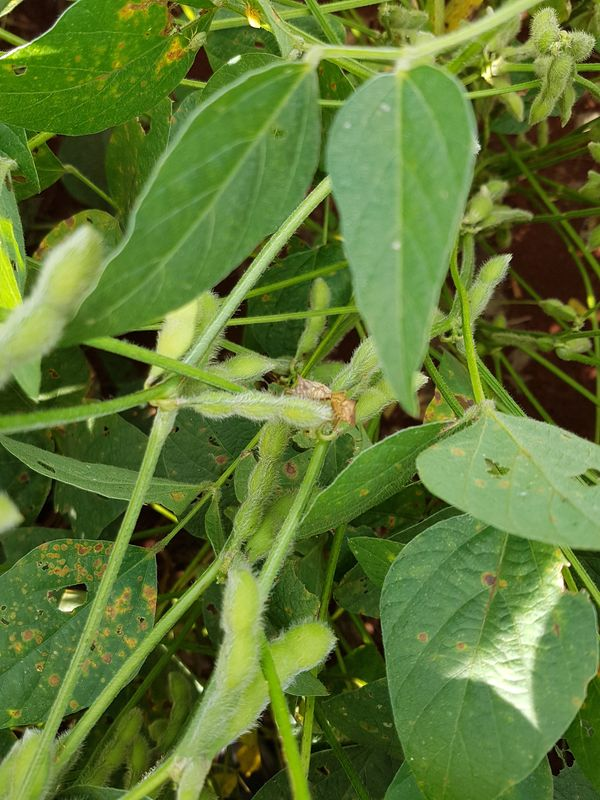Euschistus_heros_adulto: (276, 366, 330, 411), (329, 382, 374, 434)
